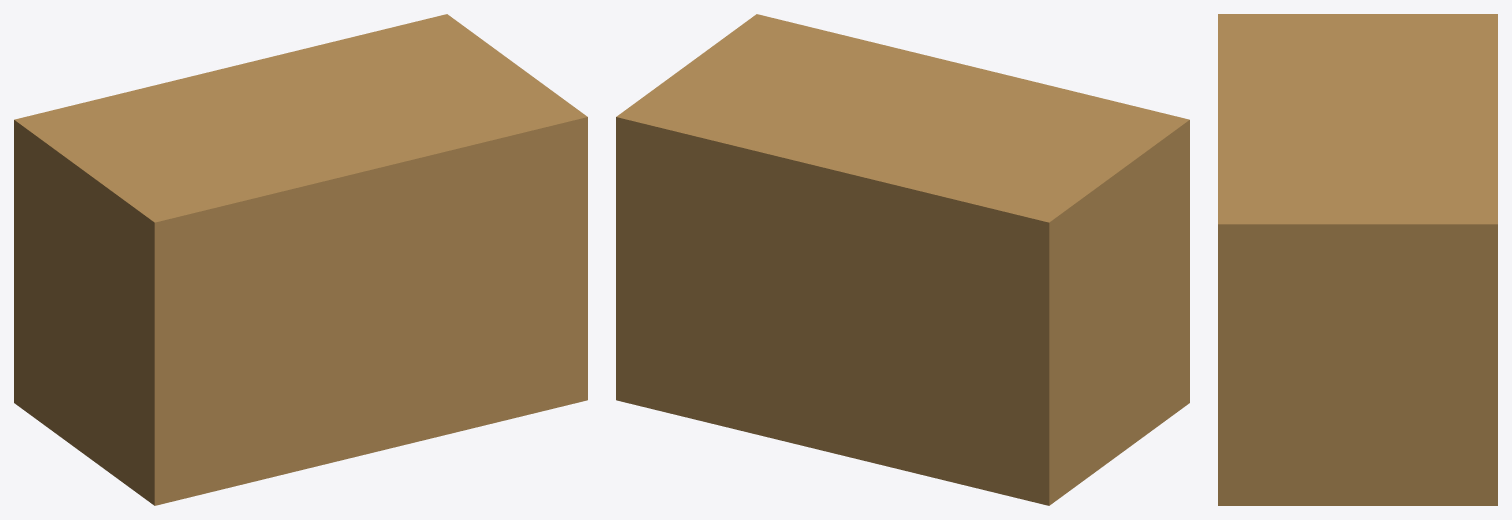
3 renders of one model, left to right at view 1: azimuth 30°, elevation 25°; view 2: azimuth 150°, elevation 25°; view 3: azimuth 270°, elevation 25°, orthographic.
Parts seen in each view (by area): view 1: RUN-069-S00-STUD-00-p3; view 2: RUN-069-S00-STUD-00-p3; view 3: RUN-069-S00-STUD-00-p3.
Part boxes in pixels (<box>): RUN-069-S00-STUD-00-p3: <box>14,14,587,505</box>; RUN-069-S00-STUD-00-p3: <box>616,14,1189,505</box>; RUN-069-S00-STUD-00-p3: <box>1218,14,1497,505</box>.
Size of the model in its own units: 0.08 by 0.05 by 0.045.
